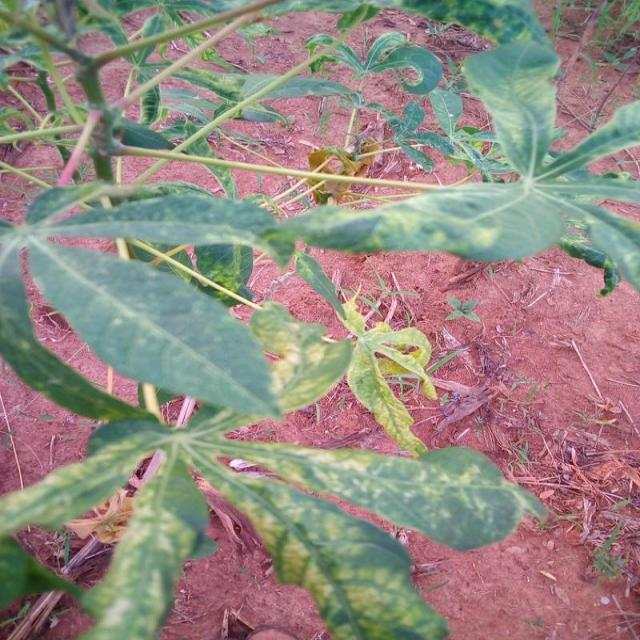cassava leaf: (0, 1, 638, 637), (25, 234, 283, 421)
